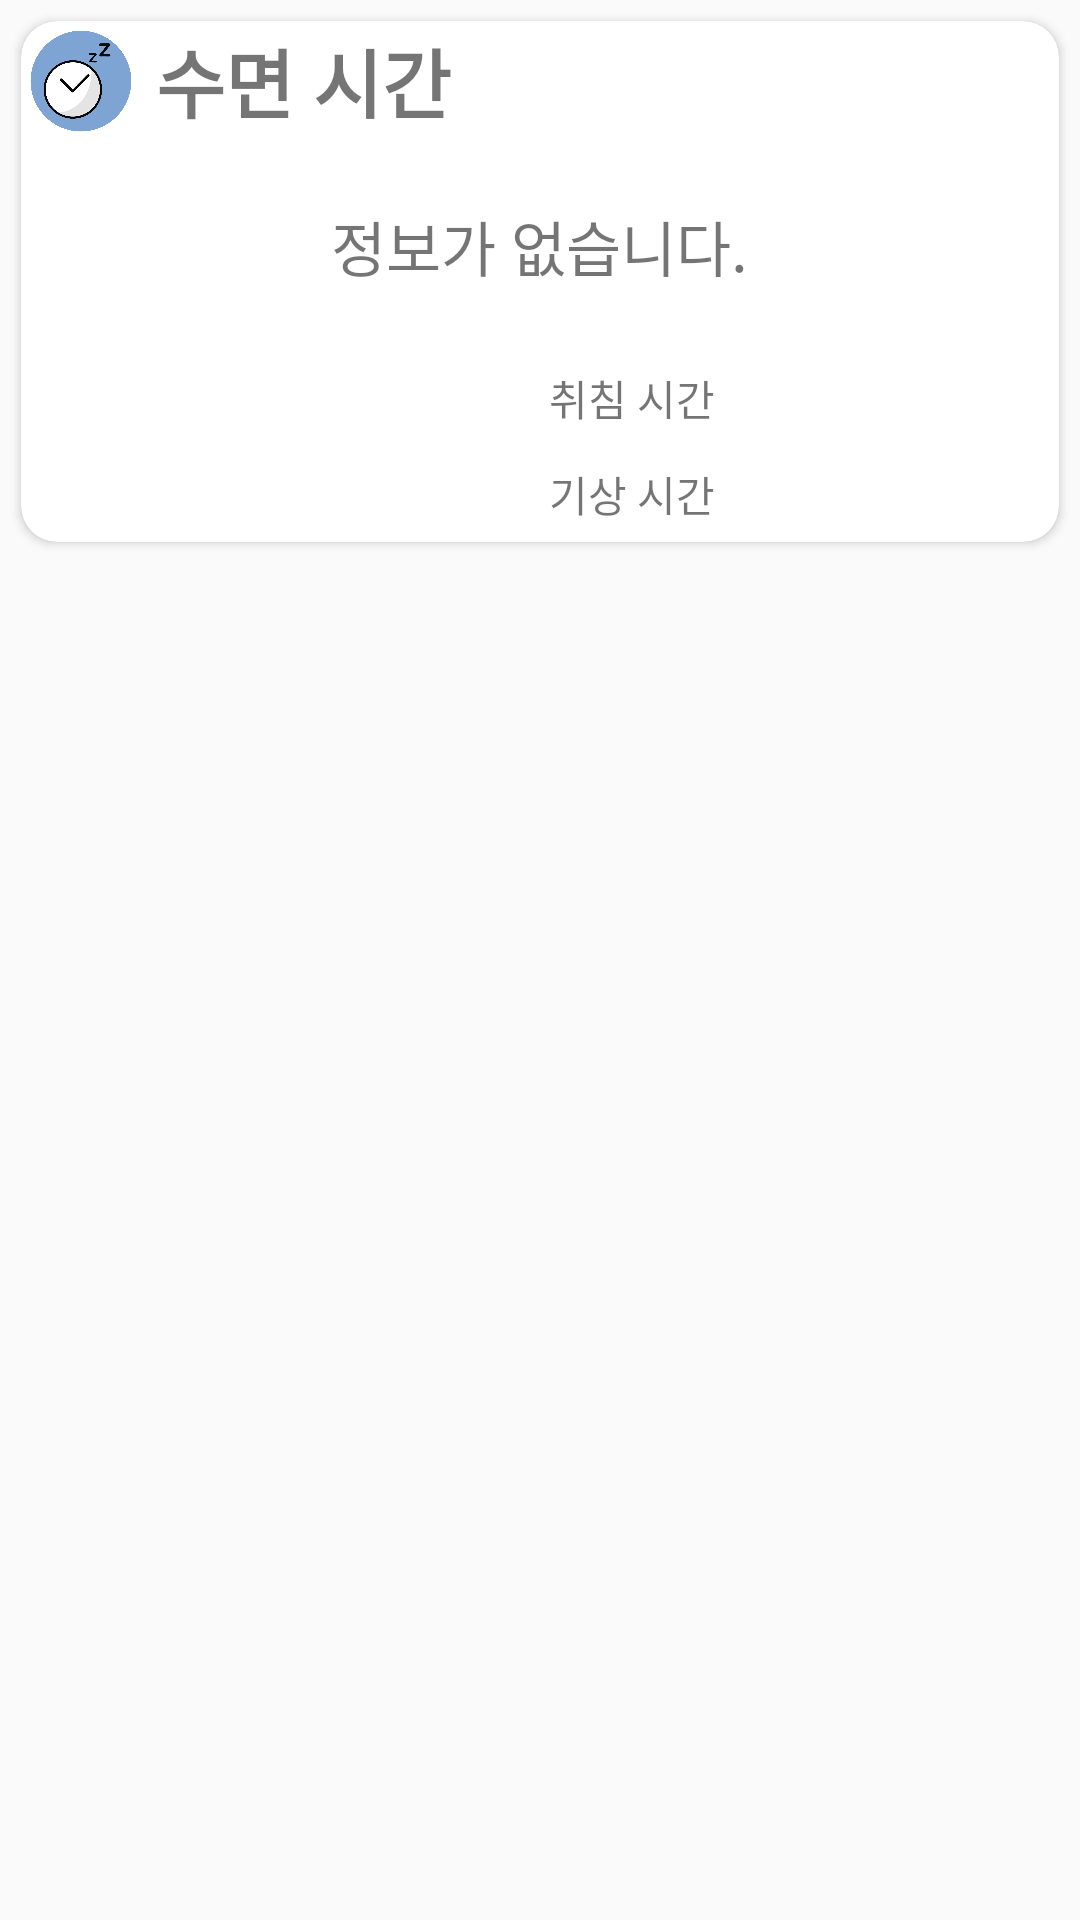

Icons on this 1080*1920 Android screen, each with the point to tap as [x,y]:
sleep: [81,76]
